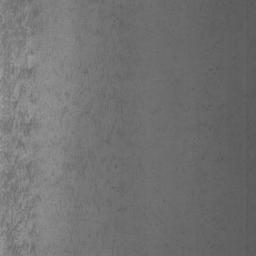Silk spot: (0, 0, 136, 256), (240, 115, 256, 149)
